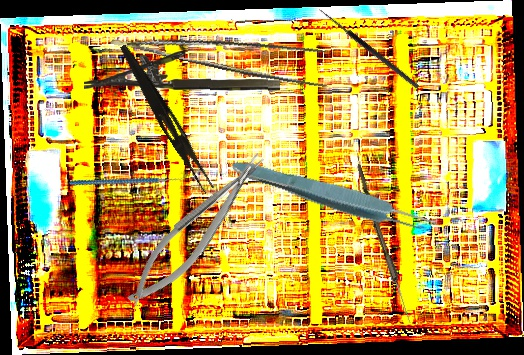Chopper: (68, 139, 191, 218)
Dressing Forceps: (112, 42, 220, 195)
Hook Surgical: (313, 7, 421, 95)
Needle Holder: (115, 146, 280, 315), (83, 49, 281, 93)
Surgical Spoon: (352, 163, 415, 325)
Tissue Forceps: (110, 3, 339, 95), (228, 152, 439, 242)
